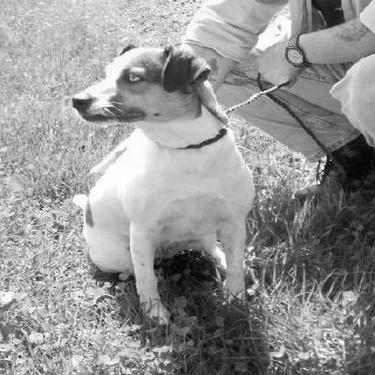dog: (63, 29, 260, 326)
